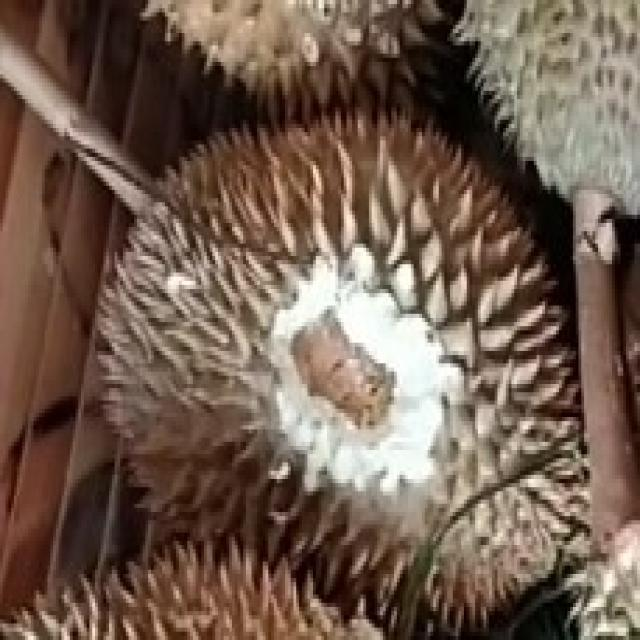defective: (94, 100, 596, 626)
